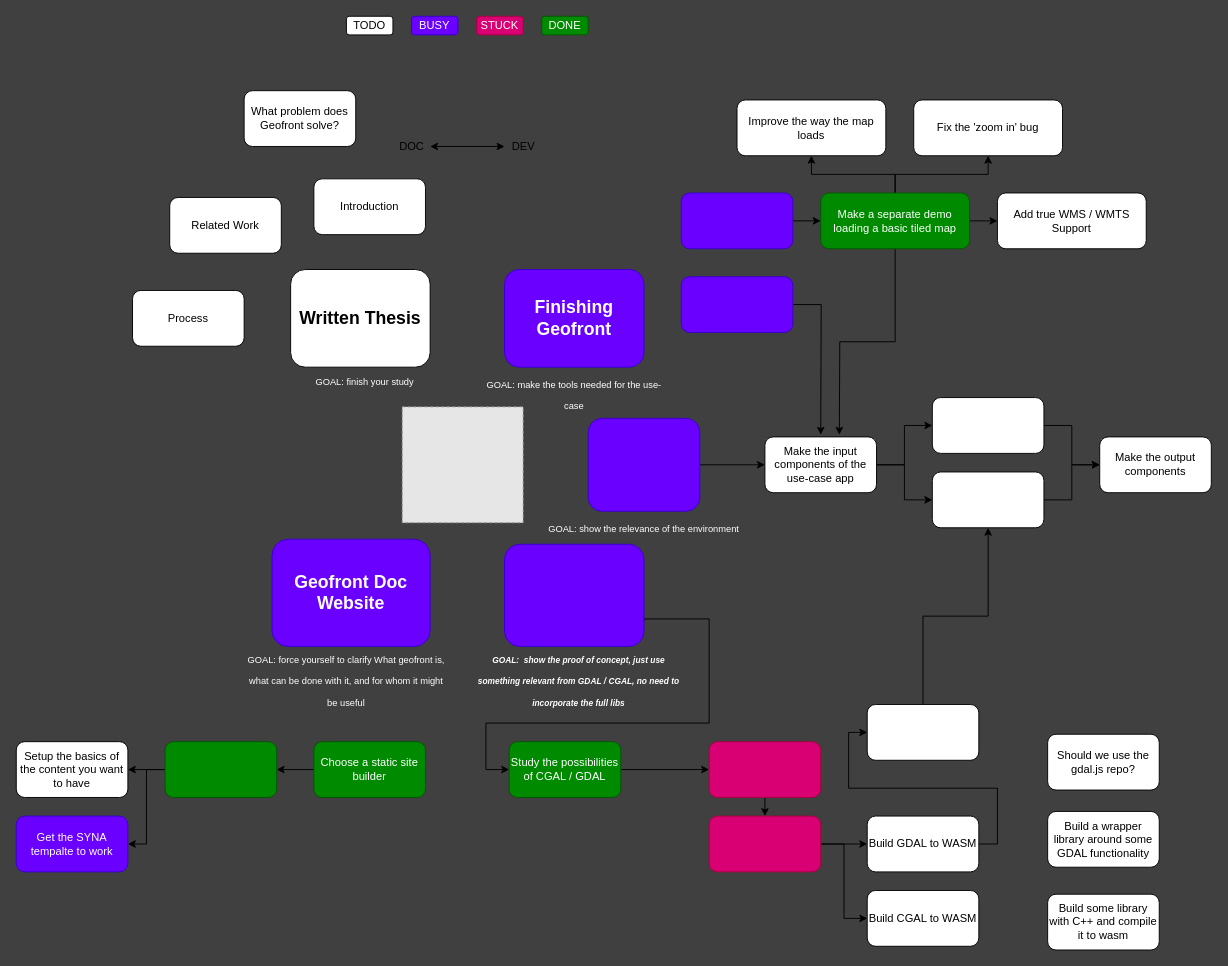
Image size: 1228x966. Some labels were removed from this diagram. Grey dashed boxes stand in for pictures. Each missing label, with the box of its shape:
Build / Incorporate a WFS / OSM feature service: (680, 276, 793, 332)
Build / Incorporate a WMS / WMTS tool: (680, 192, 793, 249)
Find workarounds for the SIMD problems: (708, 815, 821, 872)
GDAL / CGAL: (504, 543, 644, 647)
Improve your knowledge of C++ and Emscripten: (708, 741, 821, 797)
Make a HUGO demo project: (164, 741, 277, 797)
Make Startin work: (931, 397, 1044, 453)
Make the processing components: (931, 471, 1044, 528)
Use Case App: (587, 417, 700, 511)
use GDAL for a crs translation: (866, 704, 979, 760)
